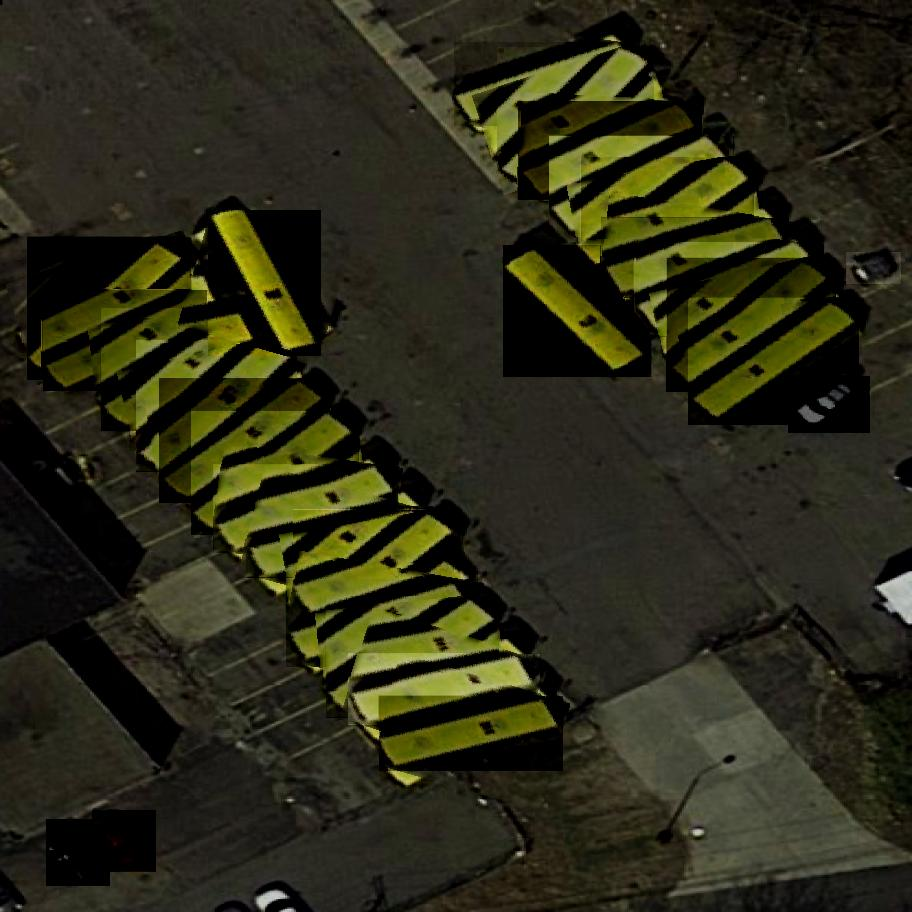large-vehicle: (28, 232, 192, 384), (497, 41, 656, 197), (667, 255, 838, 399), (136, 332, 298, 483), (689, 293, 861, 433), (159, 371, 331, 509), (293, 505, 461, 646), (99, 303, 275, 437), (582, 153, 755, 288), (326, 593, 499, 728), (190, 405, 360, 539), (500, 237, 652, 386), (550, 132, 736, 243), (518, 98, 702, 206), (634, 239, 825, 343), (209, 197, 326, 365), (43, 288, 226, 395), (287, 577, 479, 670), (215, 462, 400, 556), (454, 40, 642, 130), (601, 216, 790, 301), (349, 652, 541, 728), (379, 694, 563, 773), (246, 505, 433, 580)
small-vehicle: (789, 371, 872, 441), (93, 804, 157, 876), (47, 816, 110, 889), (846, 252, 902, 286)
